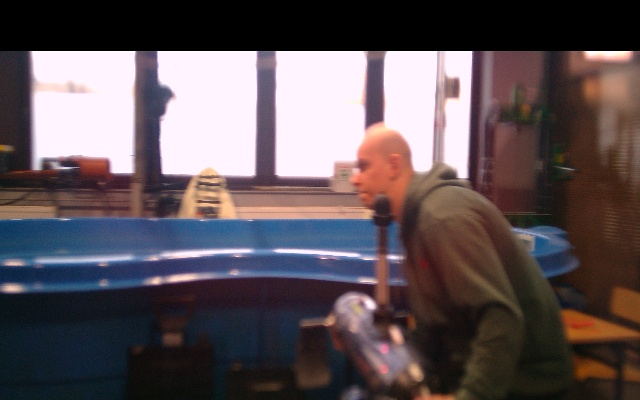black: (376, 243, 388, 307)
